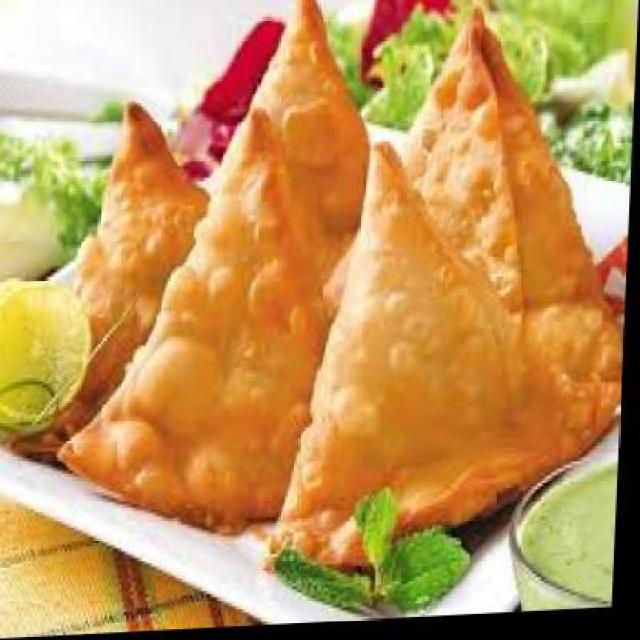samosa: (269, 135, 634, 577), (60, 105, 338, 546), (324, 5, 624, 368), (17, 100, 217, 458), (211, 0, 377, 298)
